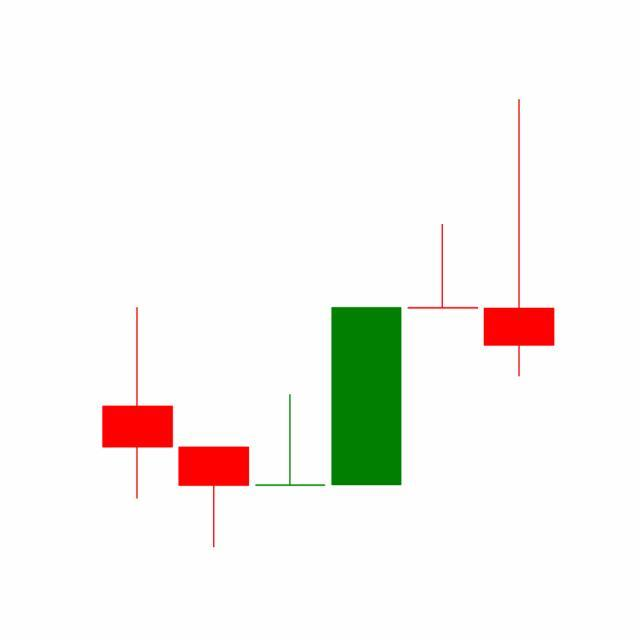Gravestone Doji: (404, 223, 482, 310)
